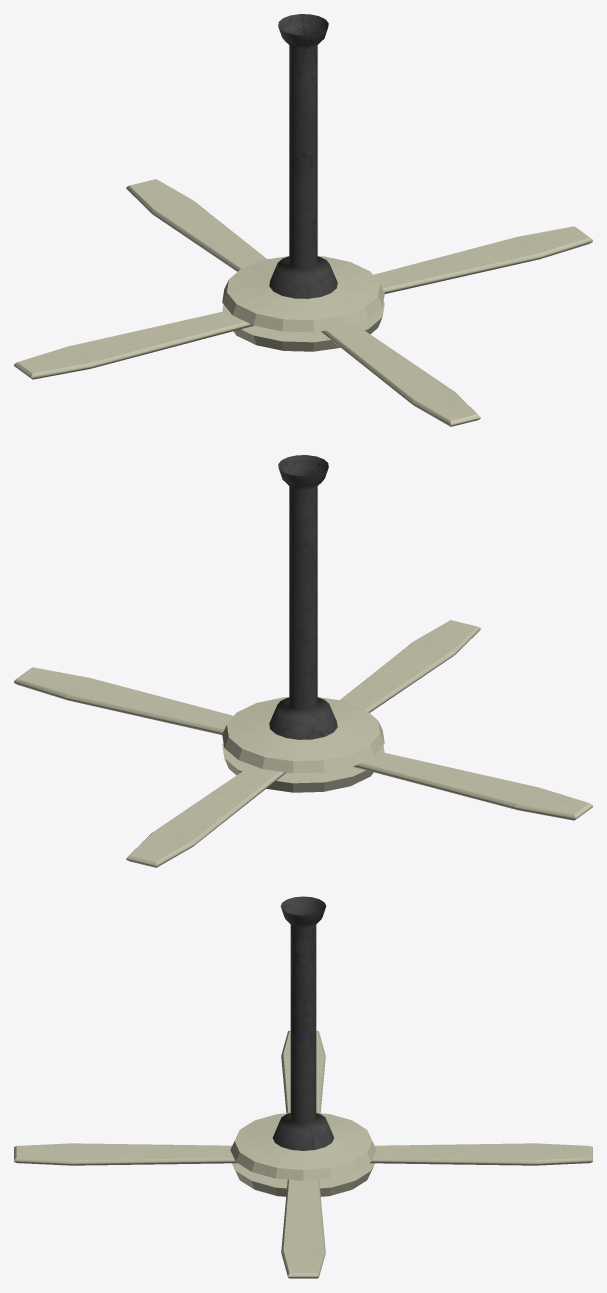
The model's file is fan canteen.fbx.
The picture shows the model from 3 angles, top to bottom: view 1: azimuth 30°, elevation 25°; view 2: azimuth 150°, elevation 25°; view 3: azimuth 270°, elevation 25°; orthographic projection. The views are drawn at different scales.
Parts seen in each view (by area): view 1: fan1, fan_wings1, fan_wings3, fan_wings2, fan_wings; view 2: fan1, fan_wings1, fan_wings3, fan_wings, fan_wings2; view 3: fan1, fan_wings, fan_wings2, fan_wings3, fan_wings1.
Part boxes in pixels (x1,y1,x2,y2): fan1: (222,14,384,351); fan_wings1: (14,310,253,379); fan_wings3: (373,226,592,293); fan_wings2: (320,324,480,426); fan_wings: (126,179,266,271); fan1: (222,455,384,792); fan_wings1: (353,751,592,820); fan_wings3: (14,667,233,734); fan_wings: (126,765,286,867); fan_wings2: (340,620,480,712); fan1: (230,896,376,1196); fan_wings: (369,1143,592,1165); fan_wings2: (14,1143,237,1165); fan_wings3: (281,1179,325,1278); fan_wings1: (281,1030,325,1113).
Size of the model in its own units: 305 by 154 by 305.
